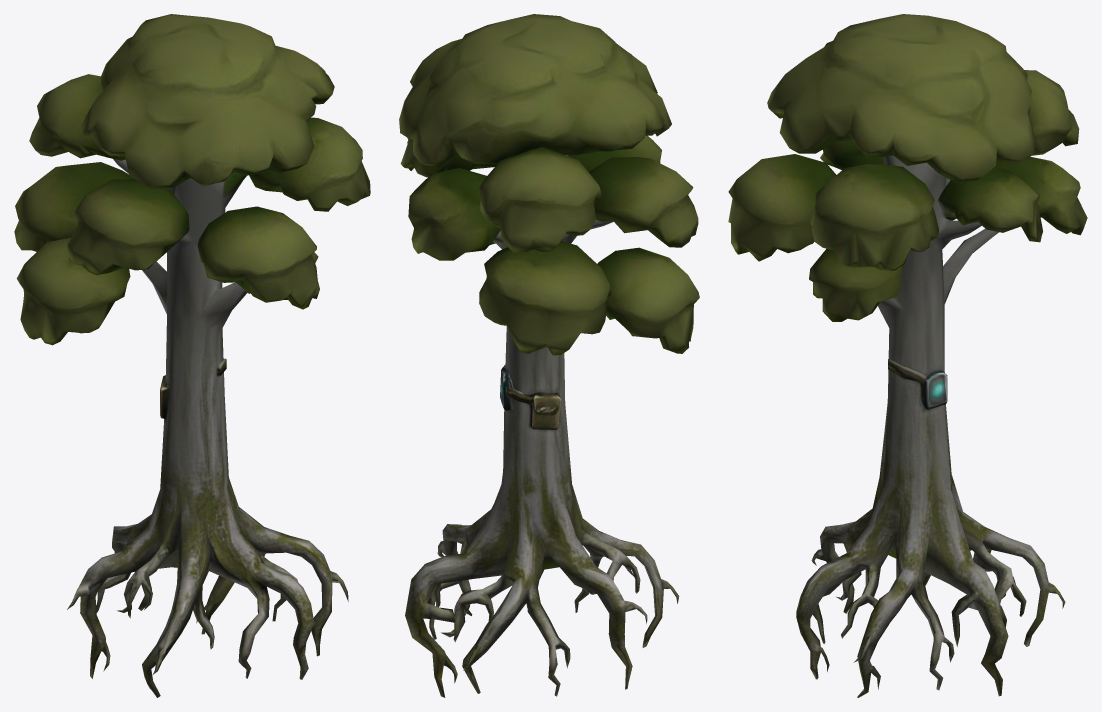
The model's file is teak_tree.glb.
3 views of the same model, side by side, from view 1: azimuth 30°, elevation 25°; view 2: azimuth 150°, elevation 25°; view 3: azimuth 270°, elevation 25° (orthographic).
Visible parts, largest first — view 1: Body; view 2: Body; view 3: Body.
Part boxes in pixels (x1,y1,x2,y2): Body: (14,14,370,697); Body: (399,14,699,697); Body: (728,14,1087,697).
Bounding box in the file's own units: 6.04 × 12 × 6.08.
1 material, 1 textured.
